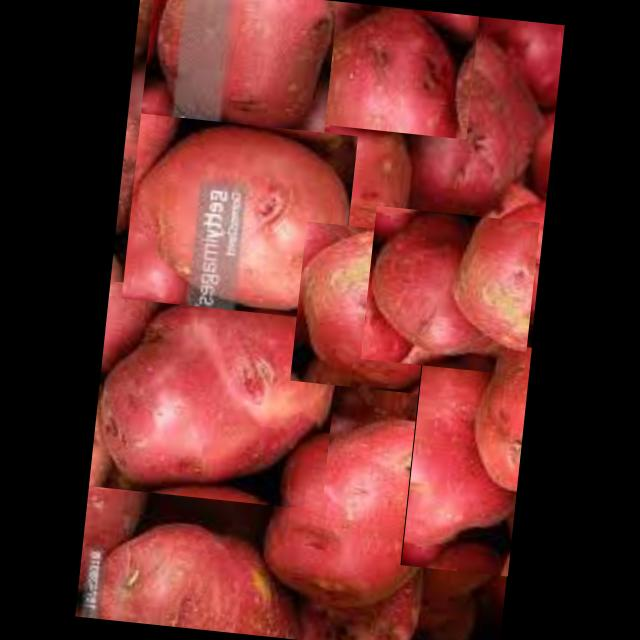Defected potato: (89, 280, 342, 509), (121, 112, 358, 320), (252, 400, 463, 622), (395, 17, 553, 235), (400, 335, 531, 575), (87, 508, 322, 640), (360, 204, 540, 374), (290, 220, 453, 395), (140, 0, 337, 137), (300, 0, 478, 138)
